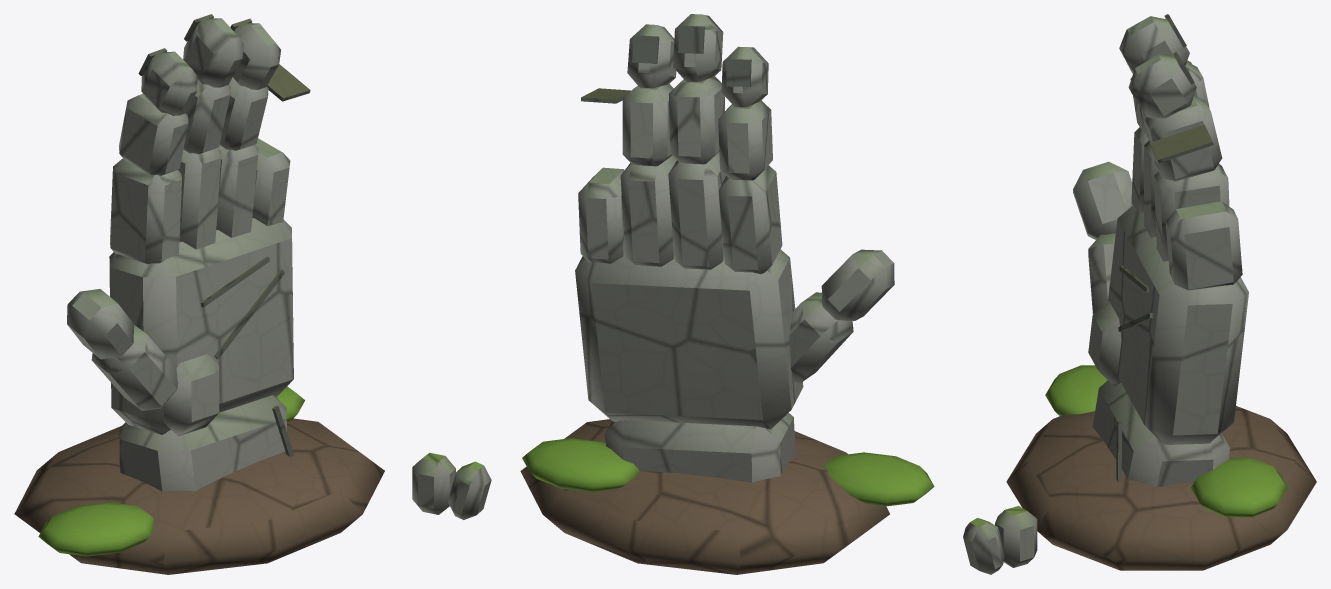
Rendered from stone_hand_fragment.glb.
3 renders of one model, left to right at view 1: azimuth 30°, elevation 25°; view 2: azimuth 150°, elevation 25°; view 3: azimuth 270°, elevation 25°, orthographic.
Parts seen in each view (by area): view 1: stone_hand_fragment; view 2: stone_hand_fragment; view 3: stone_hand_fragment.
Part boxes in pixels (box(x1,y1,x2,y2)): stone_hand_fragment: box(14, 14, 491, 574); stone_hand_fragment: box(520, 14, 934, 574); stone_hand_fragment: box(963, 14, 1316, 574).
Size of the model in its own units: 2.28 by 2.96 by 1.82.
Materials: 5 (5 with a texture image).
